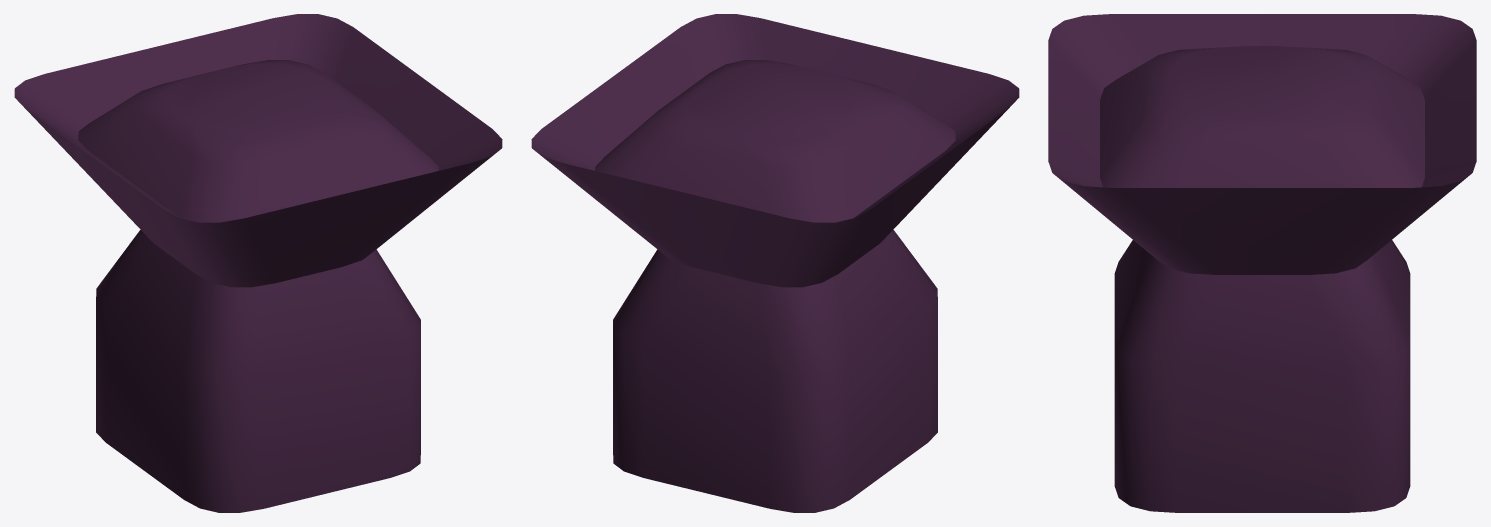
Rendered from HoloProjector.fbx.
3 views of the same model, side by side, from view 1: azimuth 30°, elevation 25°; view 2: azimuth 150°, elevation 25°; view 3: azimuth 270°, elevation 25° (orthographic). The views are drawn at different scales.
Visible parts, largest first — view 1: Holo Projector; view 2: Holo Projector; view 3: Holo Projector.
Part boxes in pixels (x1,y1,x2,y2): Holo Projector: (14, 14, 502, 512); Holo Projector: (531, 14, 1019, 512); Holo Projector: (1048, 14, 1476, 512).
Size of the model in its own units: 11.69 by 11.56 by 12.17.
